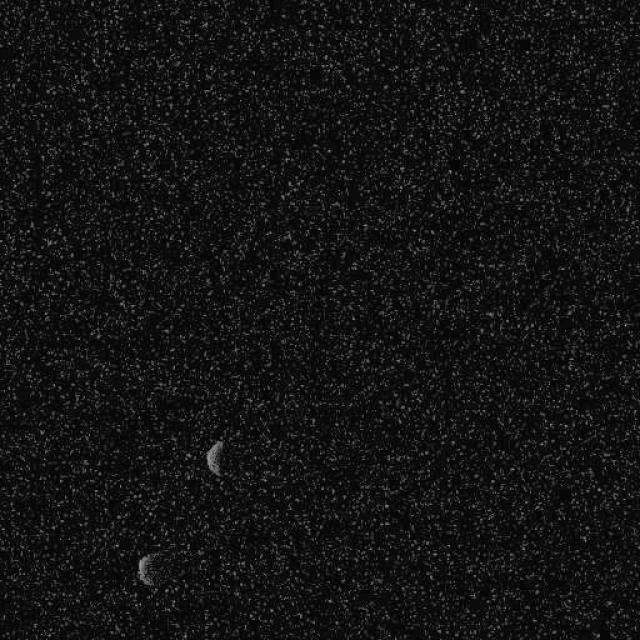D2: (135, 550, 159, 586), (204, 439, 224, 476)
